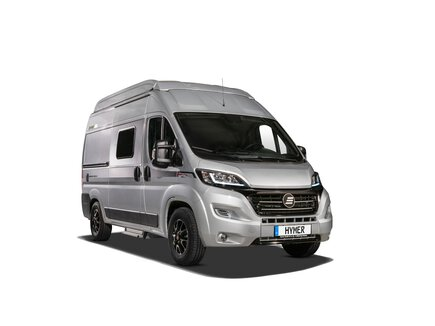van: (80, 79, 333, 269)
